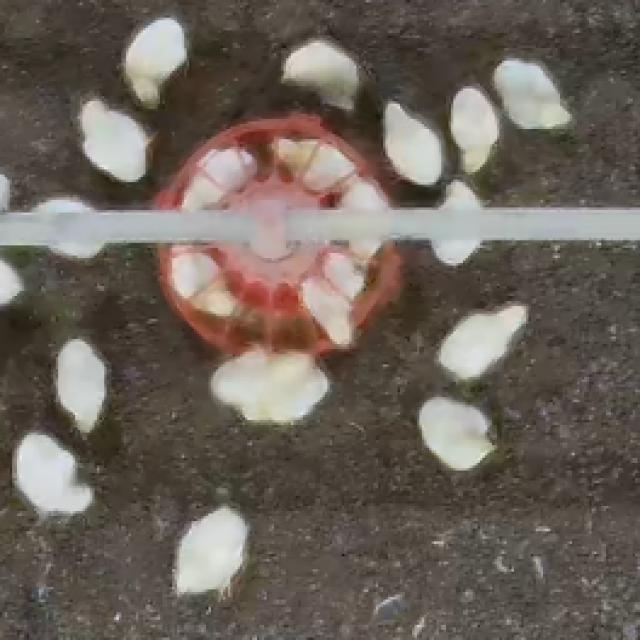broiler: (12, 433, 92, 514), (172, 506, 247, 592), (436, 304, 524, 377), (121, 18, 187, 104), (78, 99, 148, 180), (281, 38, 359, 109), (419, 397, 495, 468), (492, 58, 570, 126), (257, 354, 327, 422), (385, 101, 441, 185), (179, 147, 255, 207), (56, 339, 104, 433), (448, 86, 499, 172), (170, 253, 235, 316), (274, 139, 354, 187), (208, 349, 264, 417), (301, 276, 352, 344), (432, 238, 478, 263), (439, 180, 480, 207)
pipe: (284, 207, 638, 240), (0, 210, 257, 243)
rice: (153, 114, 400, 354)
